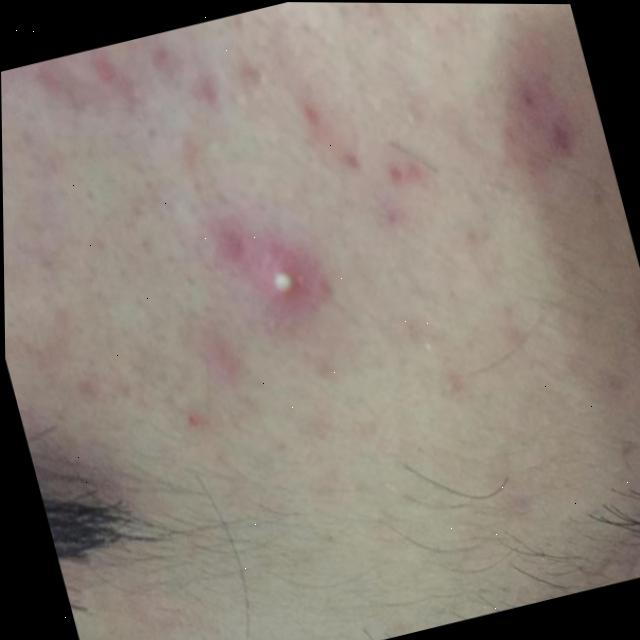Acne: (97, 1, 425, 322)
